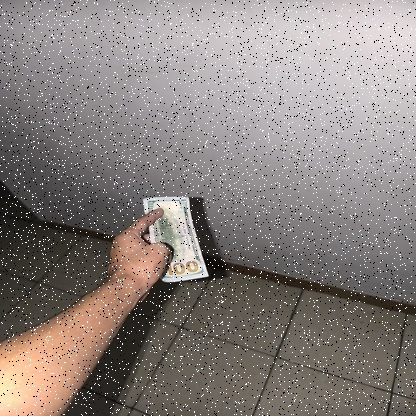one_hundred-back: (141, 193, 211, 284)
